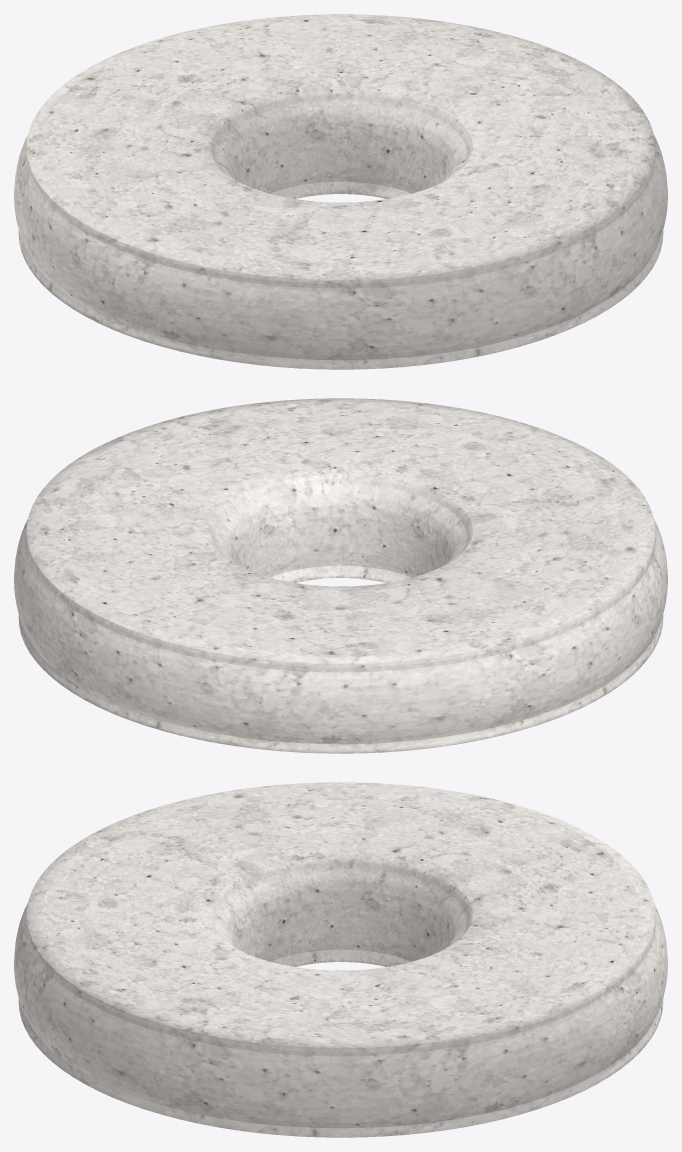
Rendered from tzaar-tzarra-white.glb.
The picture shows the model from 3 angles, top to bottom: view 1: azimuth 30°, elevation 25°; view 2: azimuth 150°, elevation 25°; view 3: azimuth 270°, elevation 25°; orthographic projection.
Parts seen in each view (by area): view 1: tzaar-tzarra-white; view 2: tzaar-tzarra-white; view 3: tzaar-tzarra-white.
Boxes of the visible parts, x1,y1,x2,y2 form: tzaar-tzarra-white: (14,14,667,369); tzaar-tzarra-white: (14,398,667,753); tzaar-tzarra-white: (14,782,667,1137).
Bounding box in the file's own units: 0.028 × 0.00435 × 0.028.
1 material, 1 textured.
